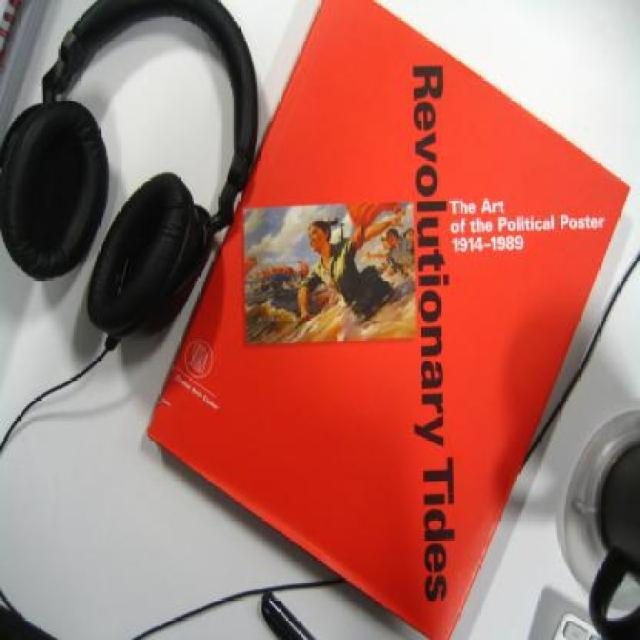earphone: (13, 4, 225, 334)
